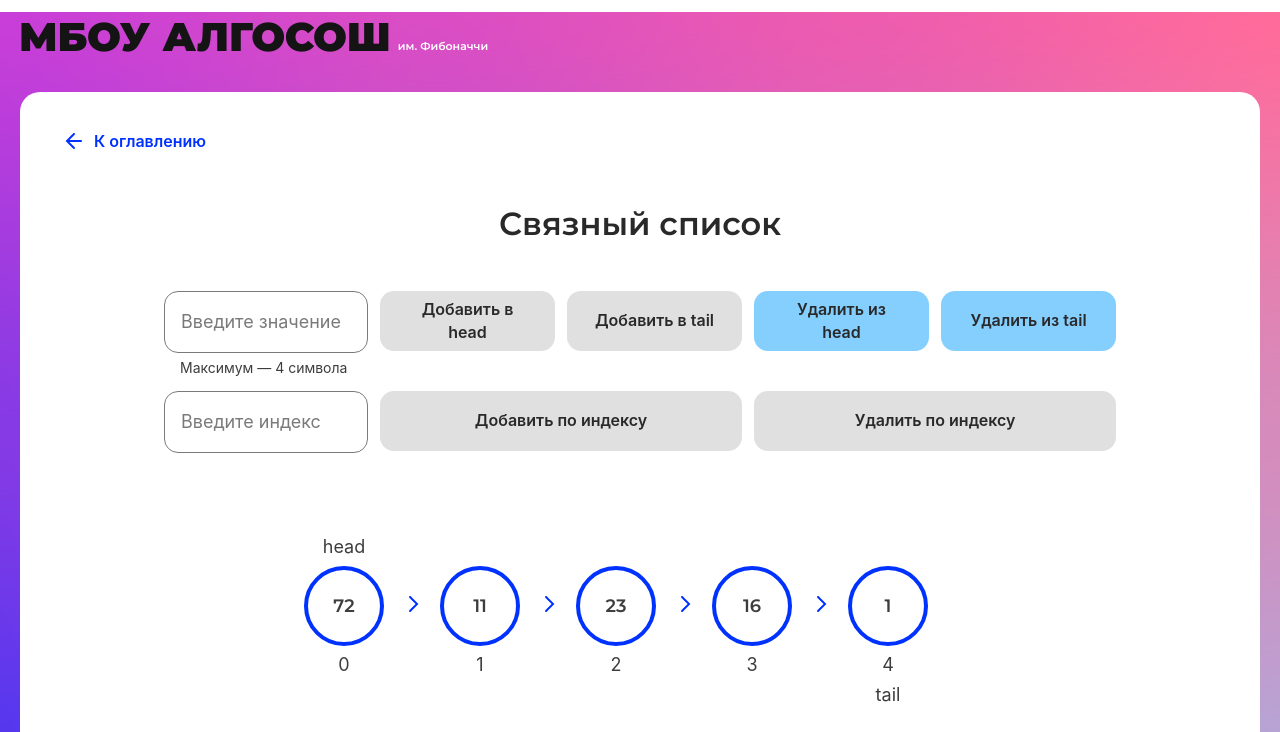
it: list page display correctly › should delete from the tail correctly
What coordinates should you click on to do the following:
click the button with test id "deleteFromTheTail"
I would click on:
 (1029, 321)
Its box is [941,291,1116,351].
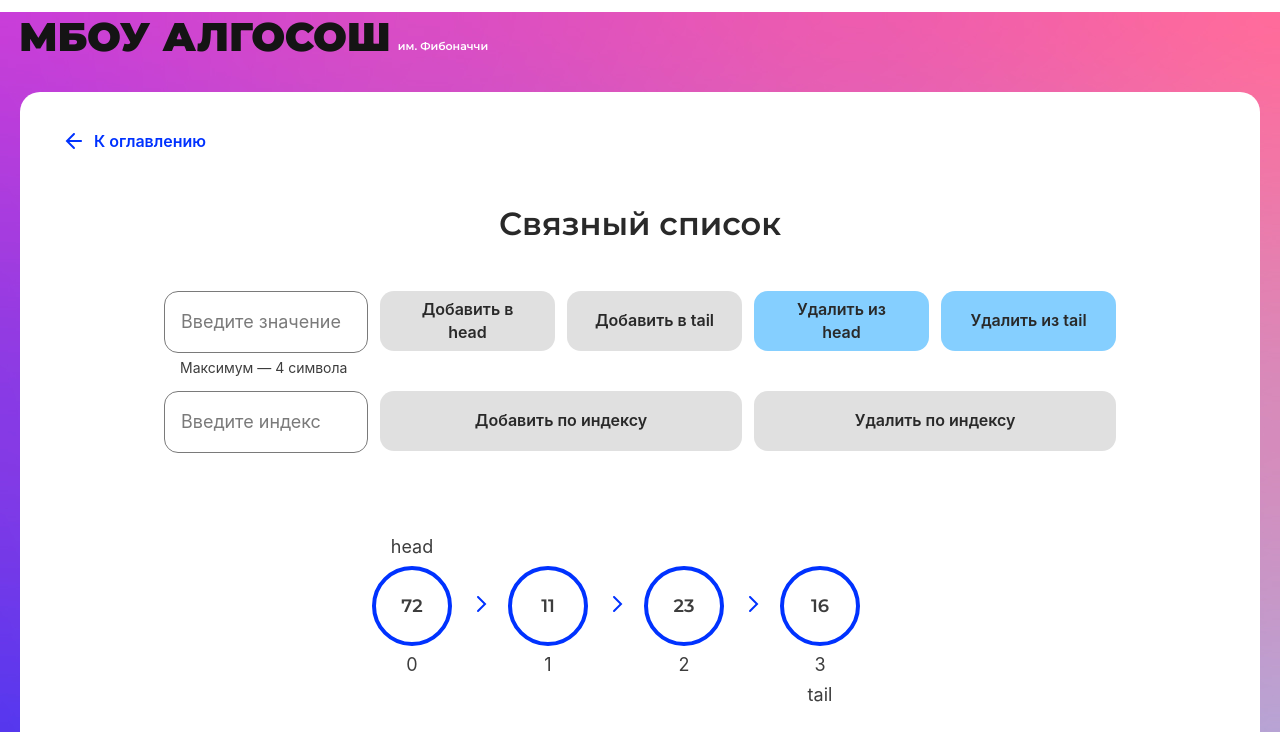
Check: the text "head" is shown, box [391,536,433,558]
Check: the number of elements with test id "circle-cont" is 4, box [372,566,452,646]; [508,566,588,646]; [644,566,724,646]; [780,566,860,646]
Check: the number of icons with test id "arrow" is 3, box [468,592,492,616]; [604,592,628,616]; [740,592,764,616]
